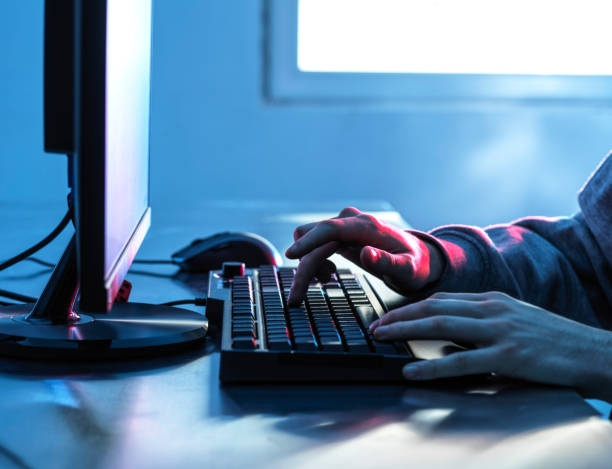keyboard: (214, 262, 384, 361)
mouse: (171, 224, 284, 266)
